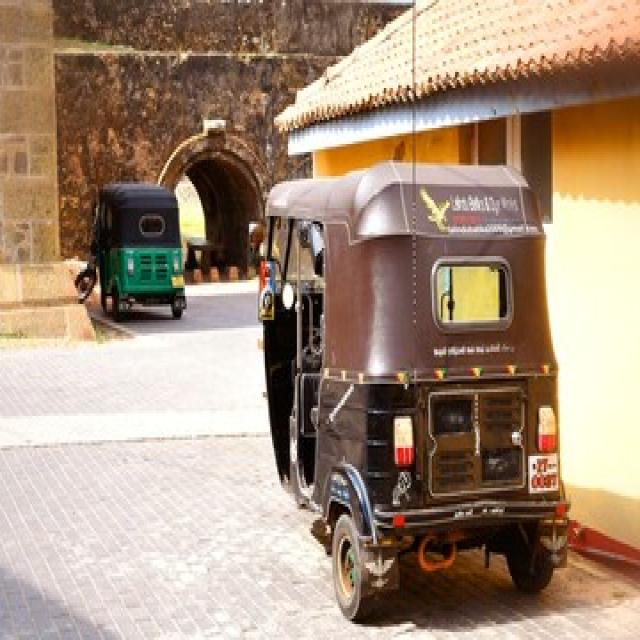three wheeler: (260, 163, 567, 619), (94, 184, 185, 317)
